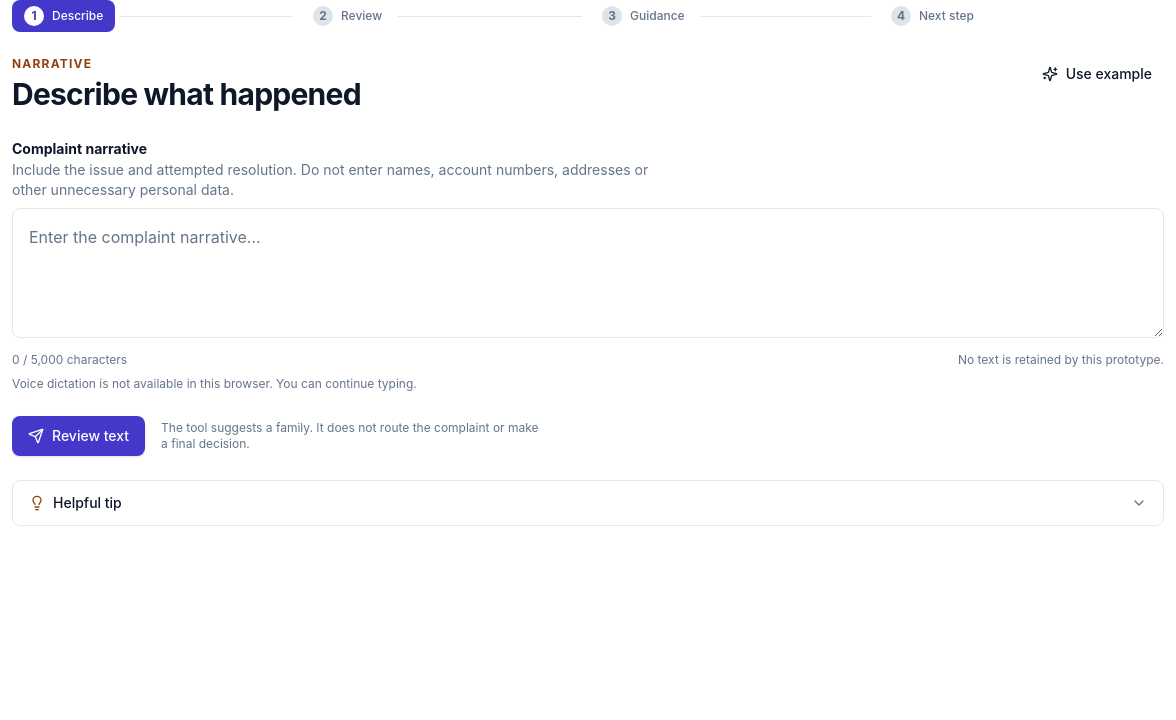
Test: ClassificationPage › shows step 2 with review when text is valid
The image size is (1176, 720).
In the text box labelled "Complaint narrative": [588, 273] box [12,208,1164,338], type "Review this complaint"
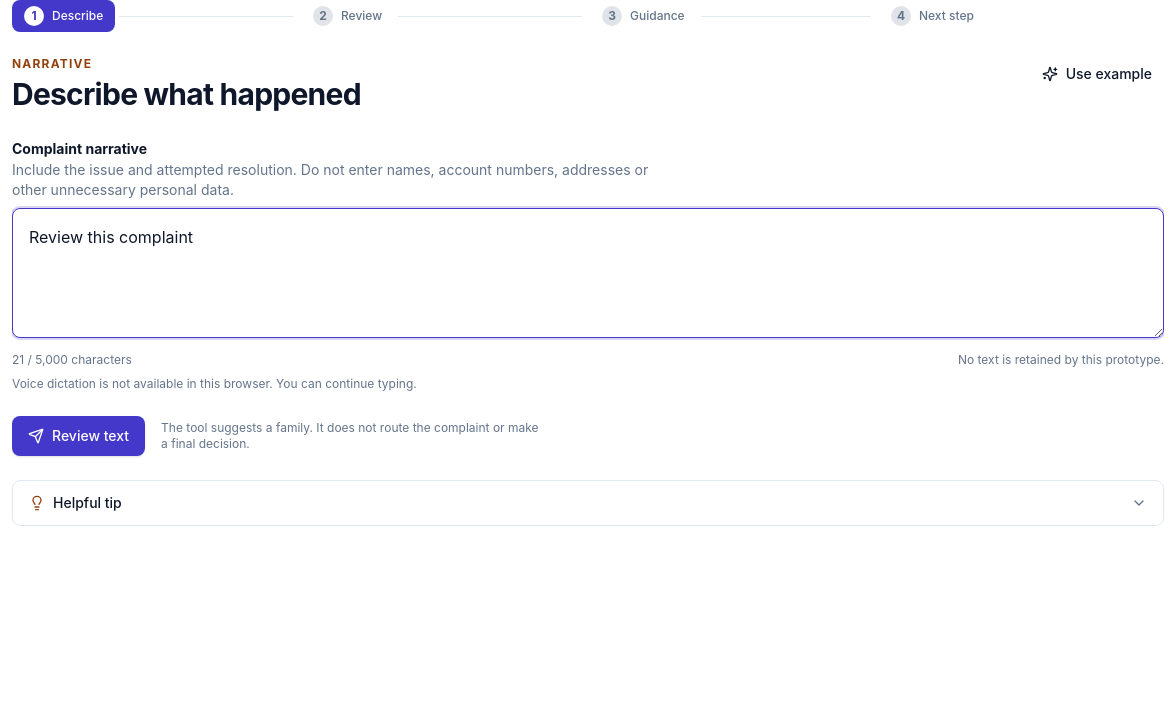
Click the button "Review text": [79, 436] box [12,416,145,456]
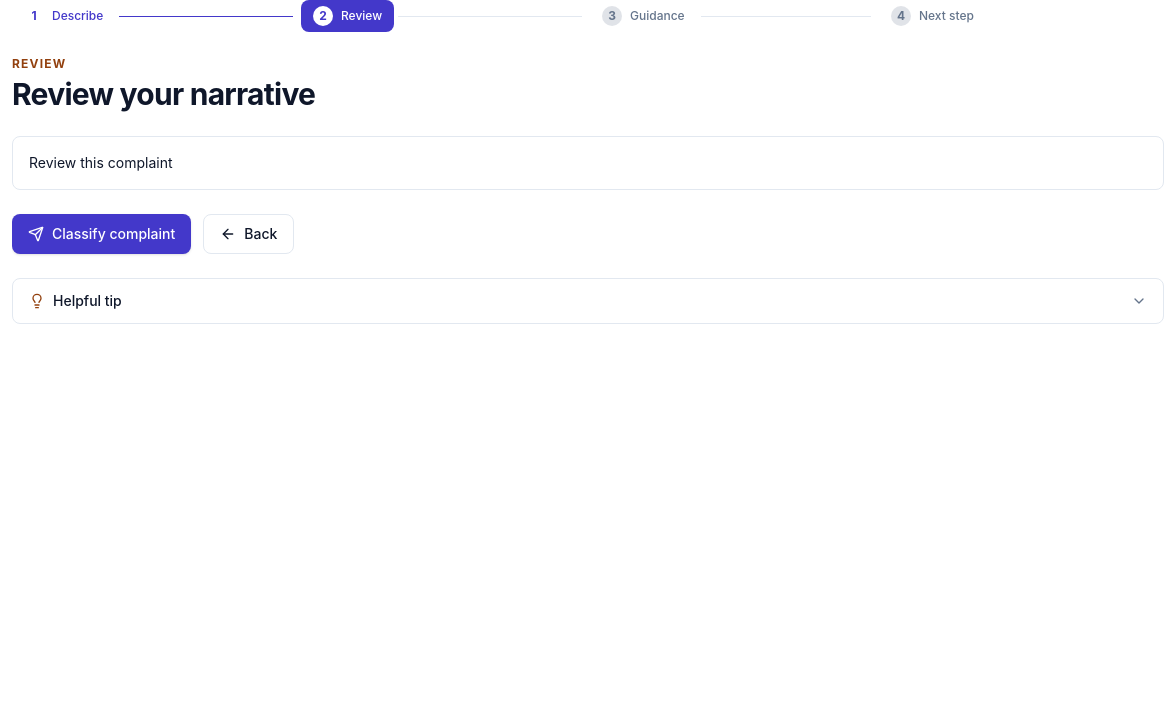
Expected: the button "Classify complaint" is enabled, [12,214,191,254]
Result: the heading "Review your narrative" is shown at [12,76,315,112]
Result: the text "Review this complaint" is shown at [29,154,173,171]
